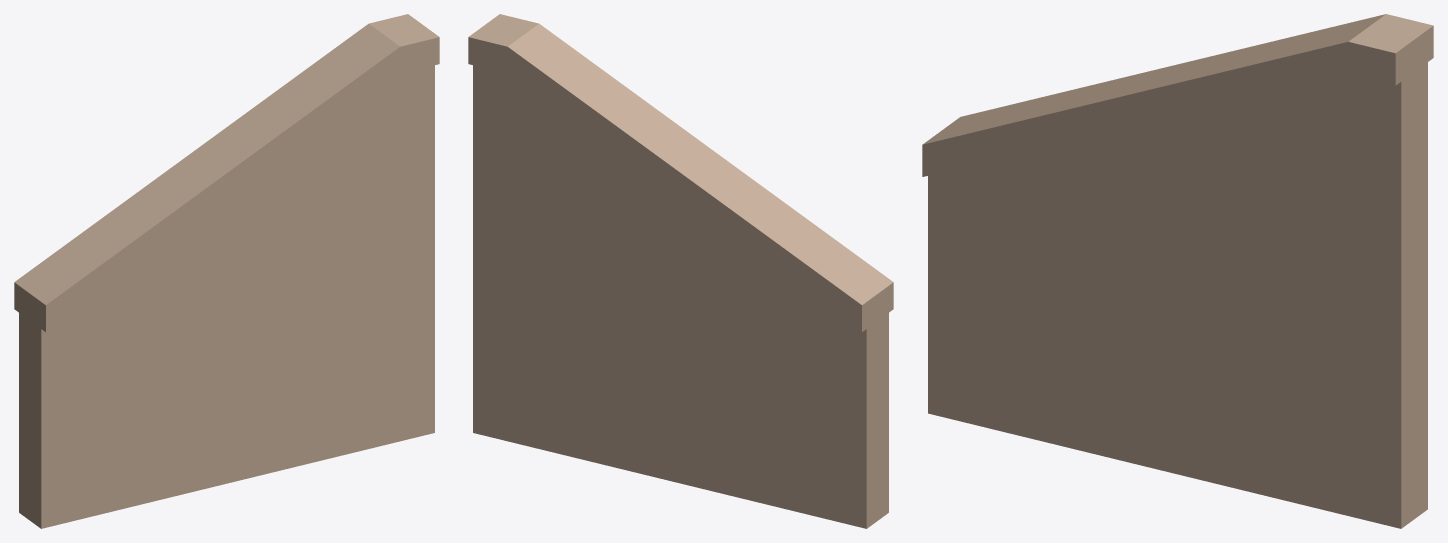
File: BC_StairWall_A.fbx
The picture shows the model from 3 angles, left to right: view 1: azimuth 30°, elevation 25°; view 2: azimuth 150°, elevation 25°; view 3: azimuth 330°, elevation 25°; orthographic projection. The views are drawn at different scales.
Parts seen in each view (by area): view 1: BC_StairWall_A; view 2: BC_StairWall_A; view 3: BC_StairWall_A.
Boxes of the visible parts, left/top/right/bottom form: BC_StairWall_A: left=14, top=14, right=439, bottom=528; BC_StairWall_A: left=468, top=14, right=893, bottom=528; BC_StairWall_A: left=922, top=14, right=1433, bottom=528.
Size of the model in its own units: 642 by 621 by 89.15.
